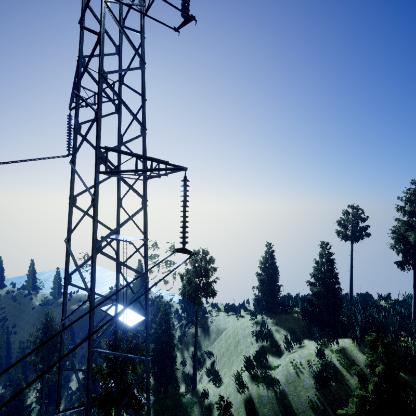insulator: (180, 177, 191, 245), (65, 112, 73, 156)
